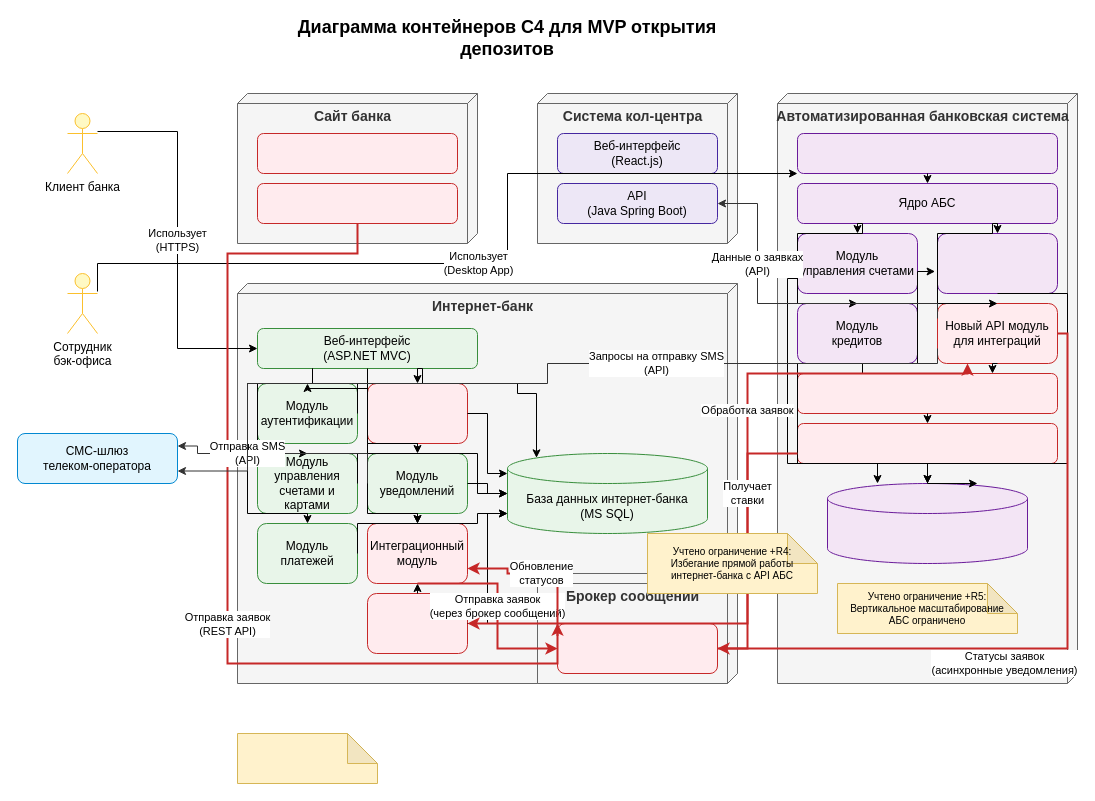
Image size: 1095x801. Some labels were removed from this diagram. Each missing label, with the centre of its shape:
"API сайта (PHP)" goes at pixel 357 203.
"База данных АБС (Oracle)" goes at pixel 927 523.
"Веб-интерфейс (PHP, React.js)" goes at pixel 357 153.
"Интерфейс пользователя (Delphi)" goes at pixel 927 153.
"Интерфейс управления ставками по депозитам" goes at pixel 927 443.
"Модуль депозитов" goes at pixel 997 263.
"Модуль персонализации ставок" goes at pixel 417 623.
"Новые компоненты выделены красным цветом" goes at pixel 307 758.
"Новый модуль депозитов" goes at pixel 417 413.
"Очередь заявок" goes at pixel 927 393.
"Очередь сообщений (для асинхронного обмена)" goes at pixel 637 648.
